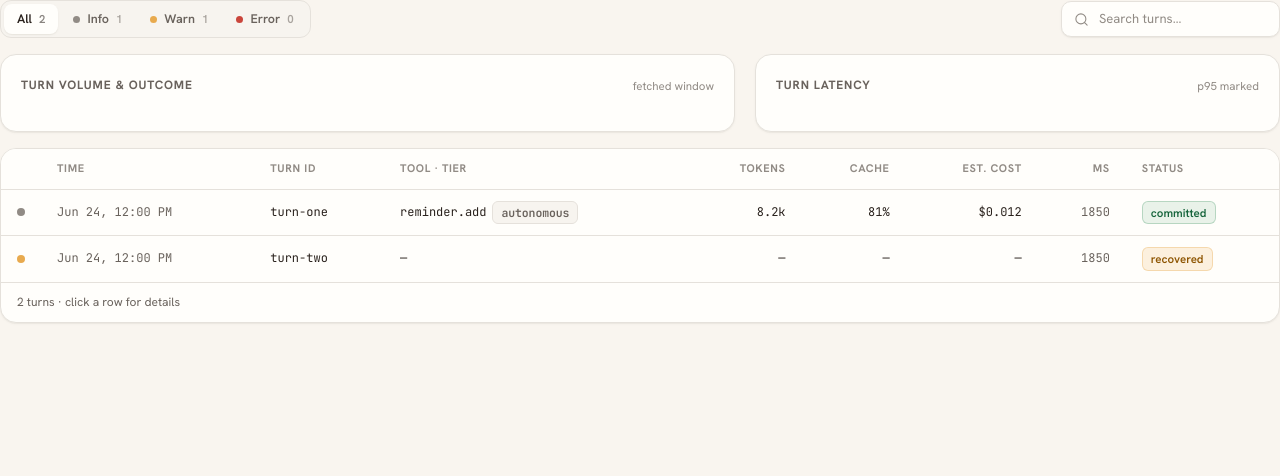
Test: LogsScreen (live) › lists turns and expands a trace row on click
This screenshot has width=1280, height=476.
Check: the text "recovered" is shown, box top-left (1142, 247), bottom-right (1212, 271)
Click the text "turn-one": (319, 213) top-left (254, 190), bottom-right (384, 236)
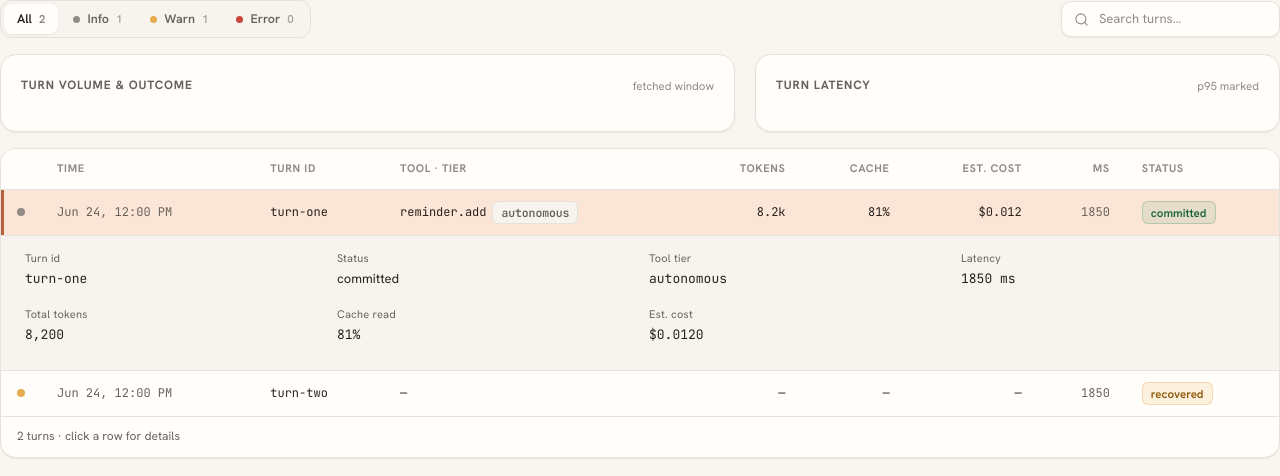
Check: the text "Total tokens" is shown, box top-left (25, 307), bottom-right (88, 321)
Check: the text "Status" is shown, box top-left (337, 251), bottom-right (369, 265)
